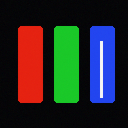4 line_v: (100, 41, 102, 97)
